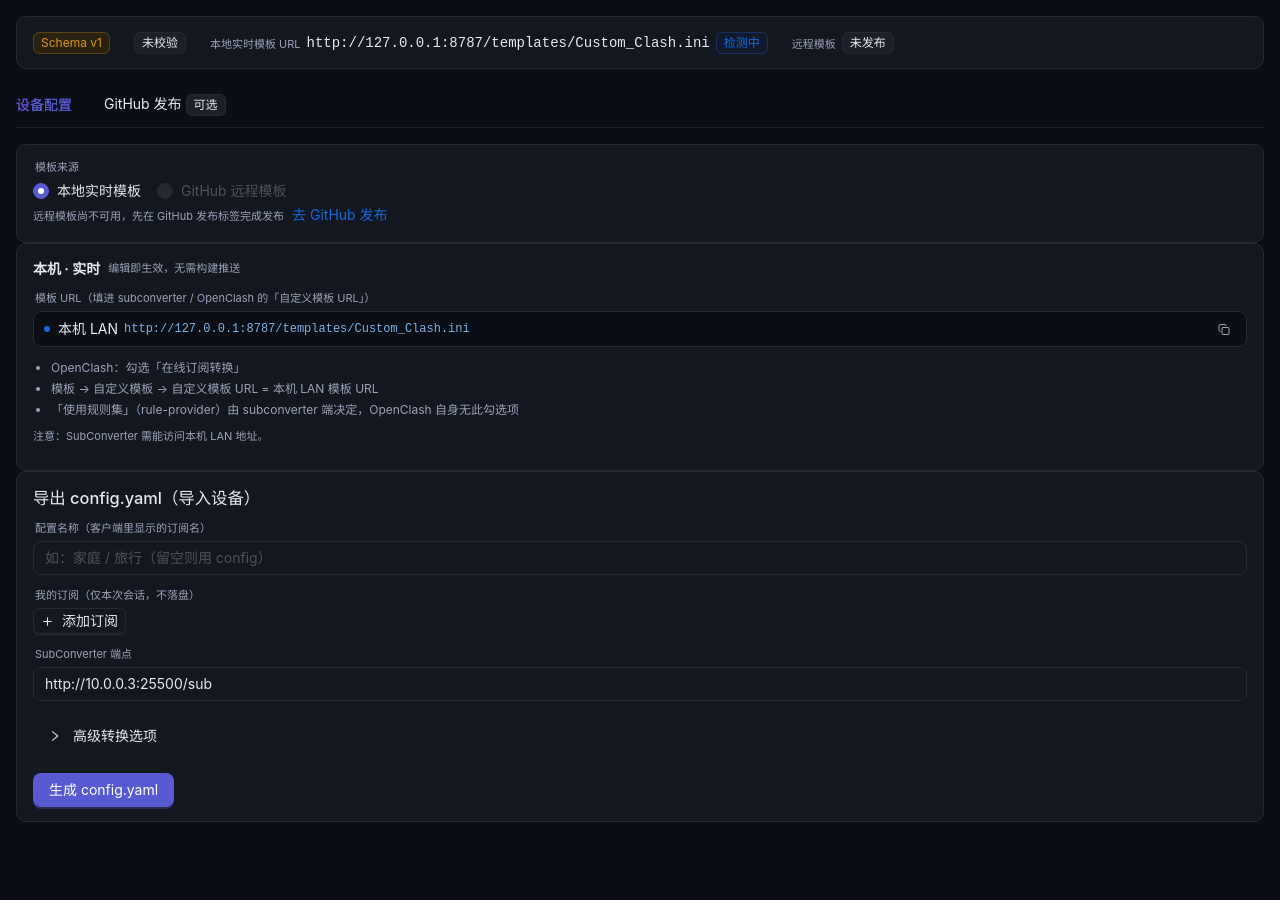
Test: OutputPage template source › probes the local template once and shares one status across both tabs
Click the tab "GitHub 发布 可选".
click(169, 104)  # box left=104, top=93, right=234, bottom=116
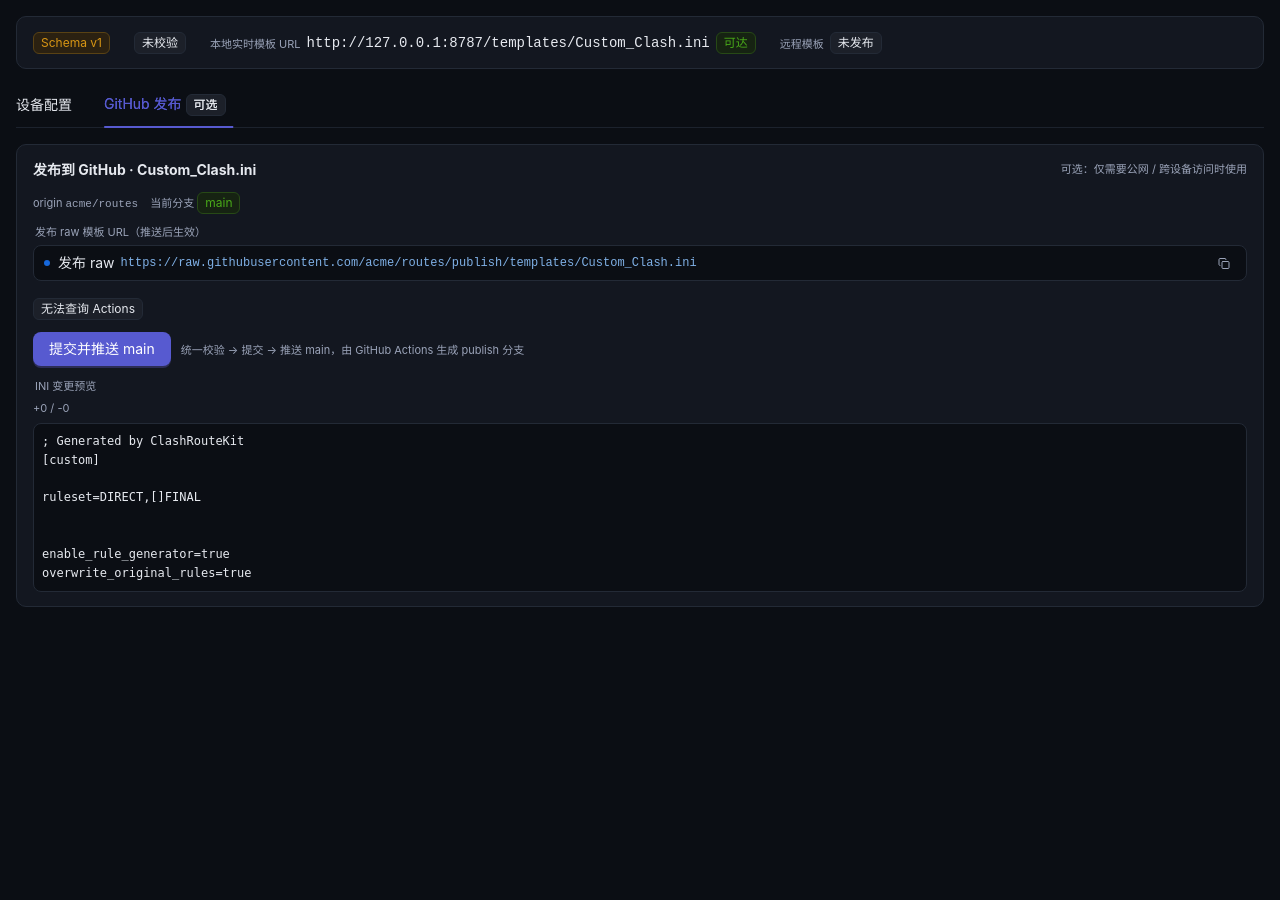
Expected: the button with test id "publish-main-button" is shown, left=33, top=332, right=171, bottom=366
